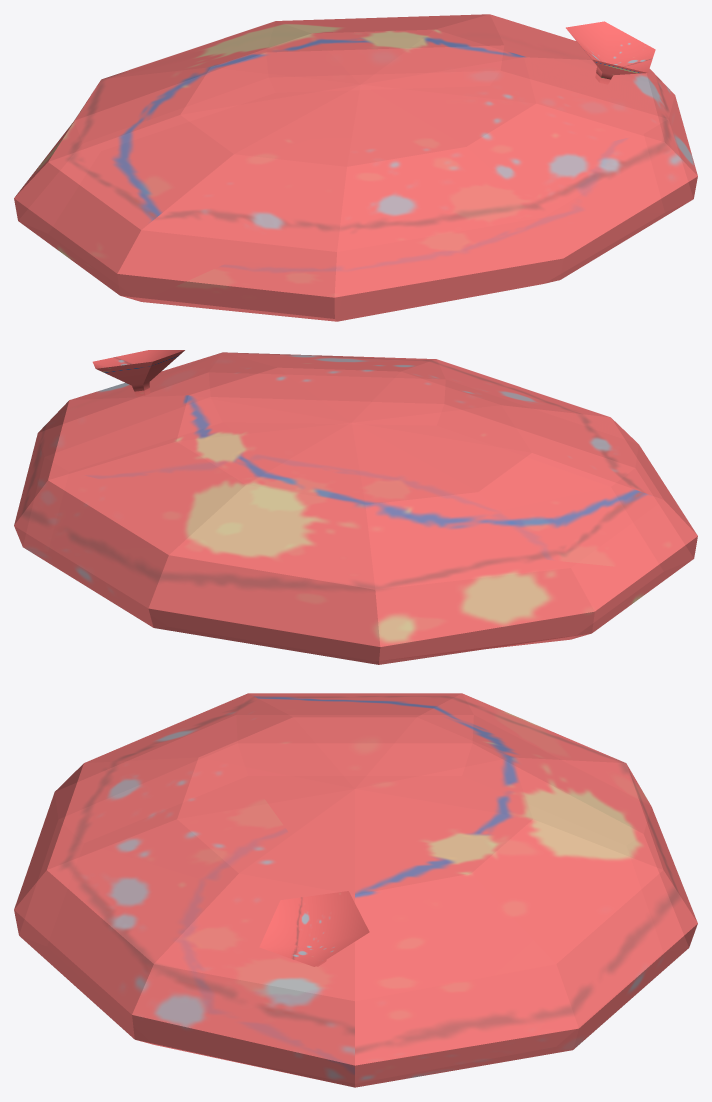
Rendered from WaterBalloon_Landmine.fbx.
3 renders of one model, top to bottom at view 1: azimuth 30°, elevation 25°; view 2: azimuth 150°, elevation 25°; view 3: azimuth 270°, elevation 25°, orthographic. The views are drawn at different scales.
Parts seen in each view (by area): view 1: pSphere2, pCylinder1; view 2: pSphere2, pCylinder1; view 3: pSphere2, pCylinder1.
Part boxes in pixels (left/top/right/bottom): pSphere2: left=14, top=14, right=697, bottom=321; pCylinder1: left=566, top=21, right=655, bottom=83; pSphere2: left=14, top=352, right=697, bottom=664; pCylinder1: left=92, top=350, right=184, bottom=395; pSphere2: left=14, top=693, right=697, bottom=1087; pCylinder1: left=259, top=891, right=369, bottom=966.
Bounding box in the file's own units: 156 × 31.44 × 132.
2 materials, 2 textured.
